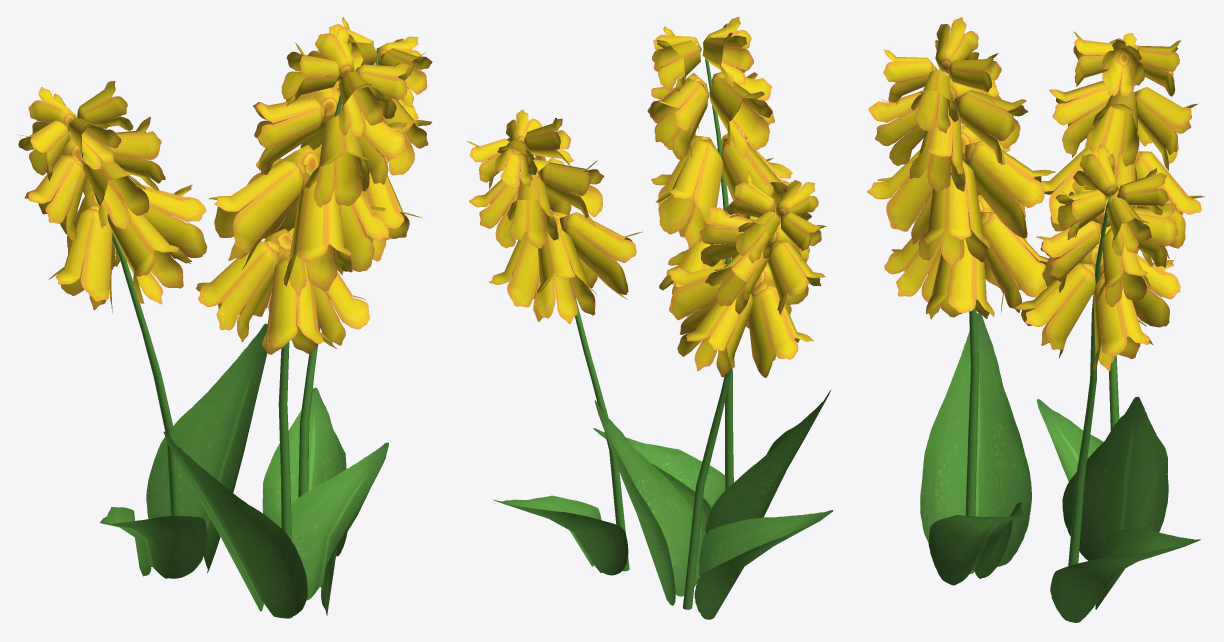
Rendered from flower-2.glb.
3 renders of one model, left to right at view 1: azimuth 30°, elevation 25°; view 2: azimuth 150°, elevation 25°; view 3: azimuth 270°, elevation 25°, orthographic. The views are drawn at different scales.
Parts seen in each view (by area): view 1: flower-2; view 2: flower-2; view 3: flower-2.
Part boxes in pixels (<box>): flower-2: <box>17,17,432,618</box>; flower-2: <box>467,17,833,619</box>; flower-2: <box>867,17,1205,622</box>.
Size of the model in its own units: 1.78 by 2.49 by 1.37.
Materials: 2 (2 with a texture image).
